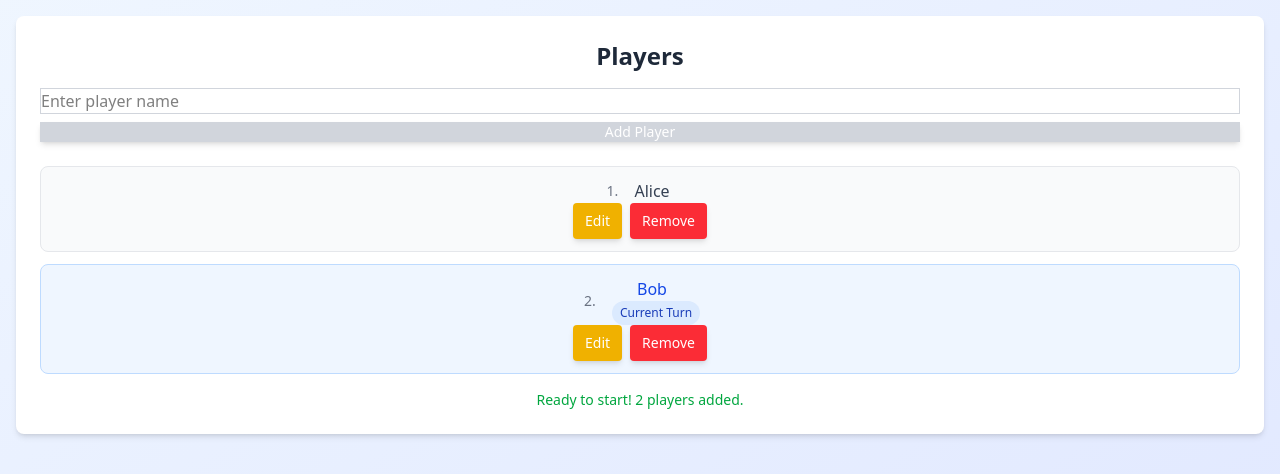
PlayerManager Component › Player Editing › should cancel edit when cancel button is clicked
Click the button "Edit" below "Alice".
click(598, 221)  # box [573, 203, 622, 239]
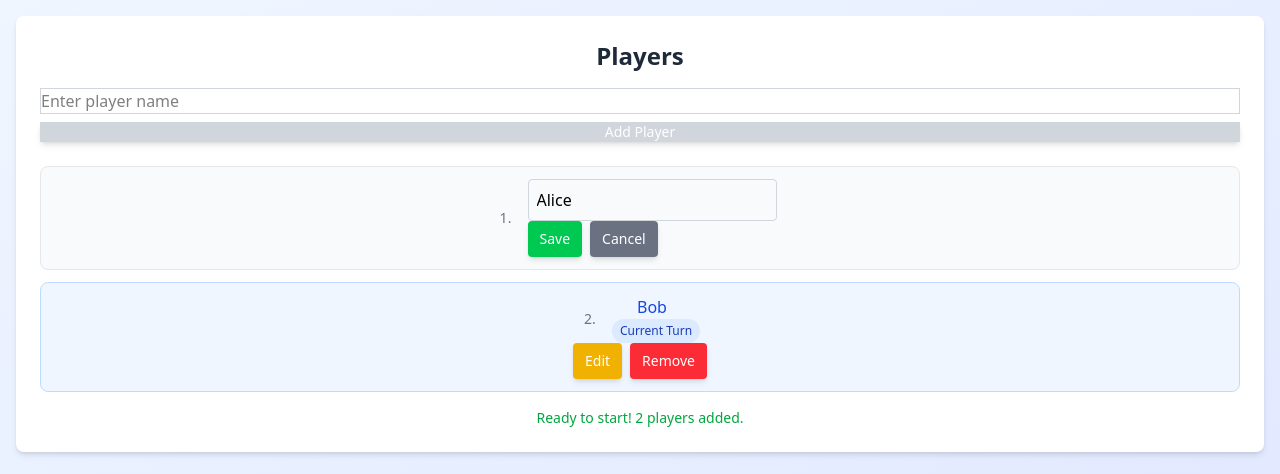
Replace the text in the field showing "Alice" with "Changed" at (652, 200), box [528, 179, 776, 221]
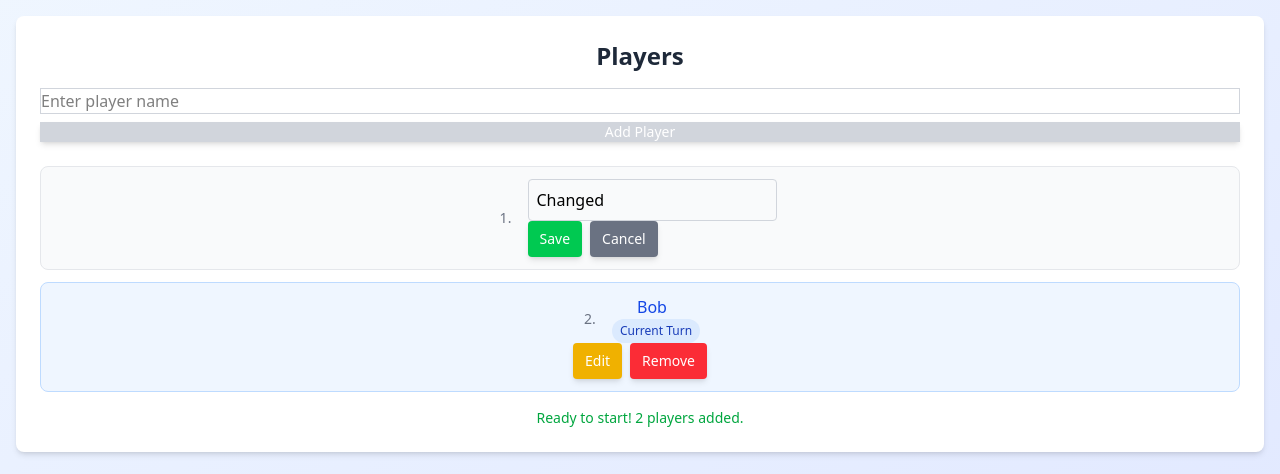
Click the button "Cancel".
click(624, 239)  # box [590, 221, 658, 257]
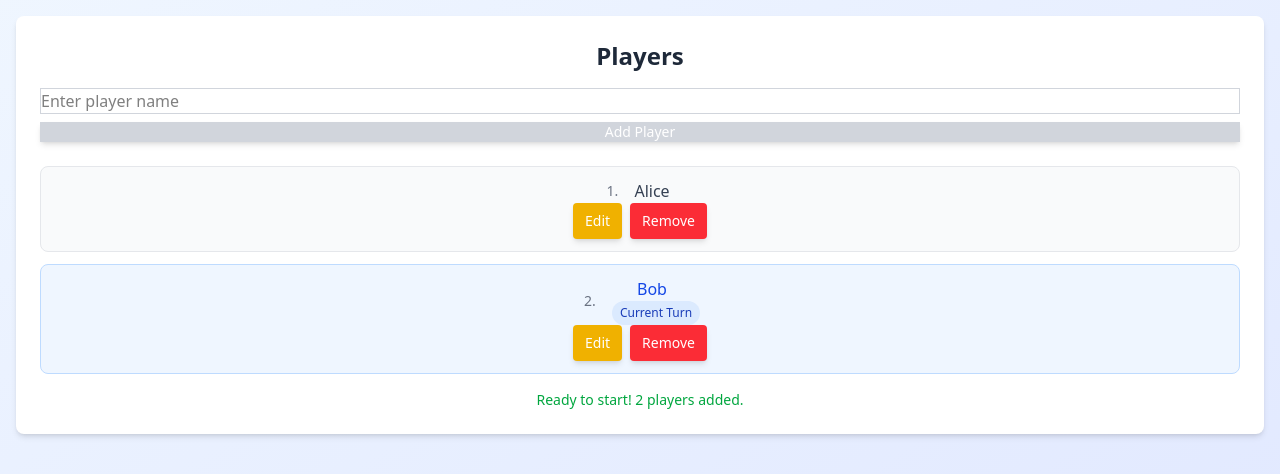
Check: the field showing "Changed" is not shown
Check: the text "Alice" is shown, box [634, 179, 670, 203]
